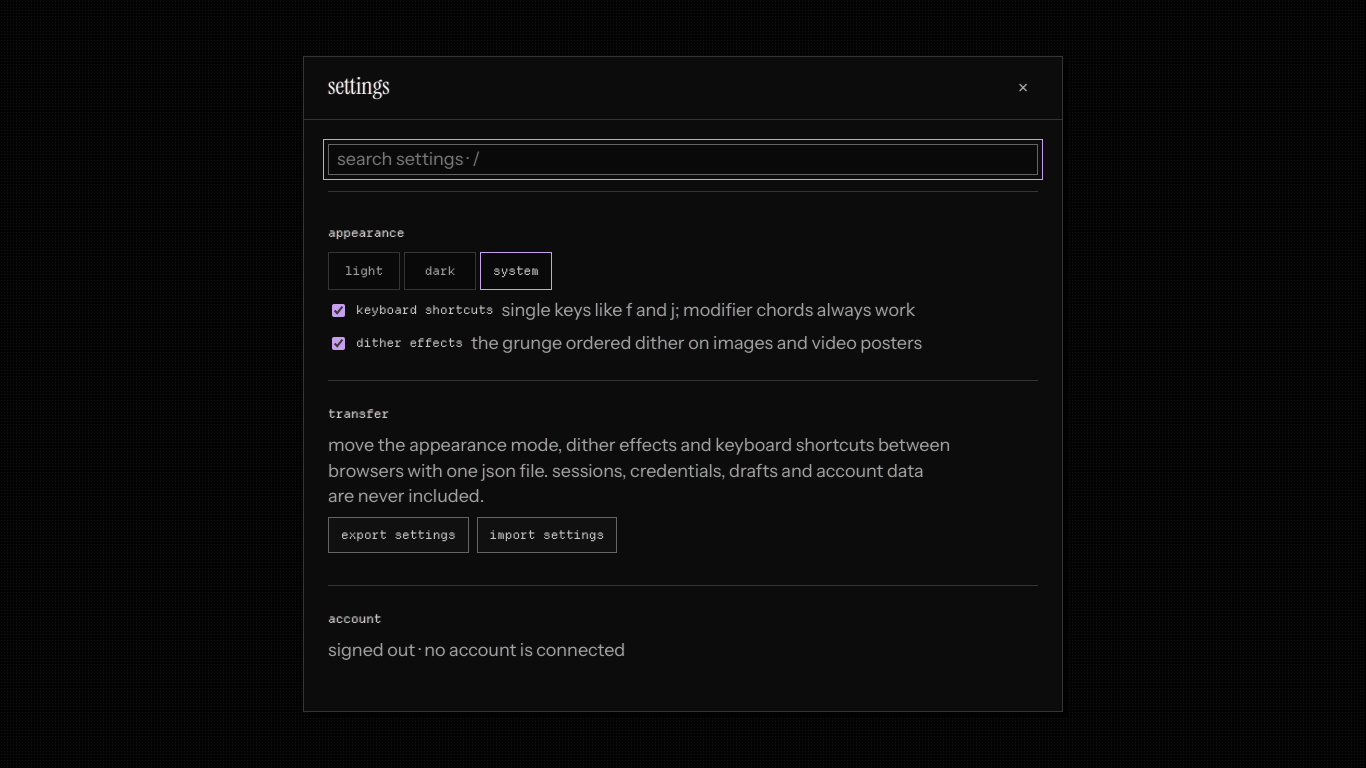
Scenario: SettingsDialog keyboard shortcuts setting › updates only the keyboard shortcuts setting when toggled
Later steps or results of the test are not shown.
Click the checkbox labelled "keyboard shortcuts". click: (338, 311)
box: [332,304,345,317]
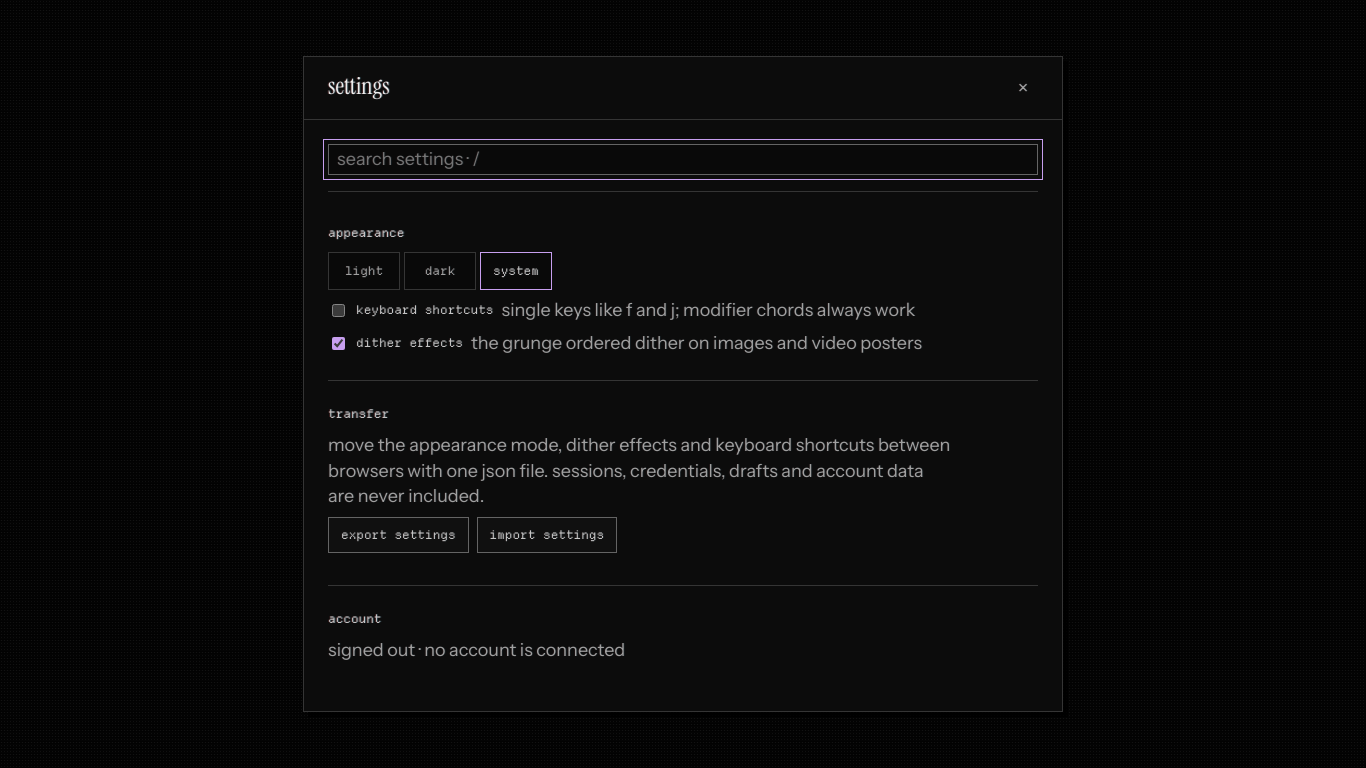
expect the button "light" is shown: met, box [328,252,400,290]
expect the checkbox labelled "keyboard shortcuts" is not checked: met, box [332,304,345,317]
